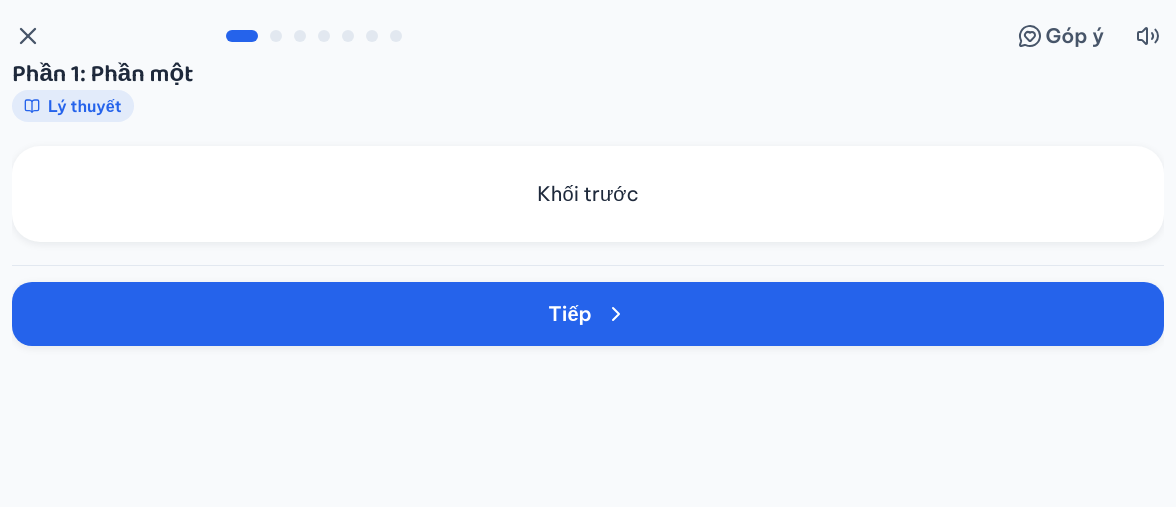
Test: a guided theory screen › keeps Tiếp off until the child picks right, with feedback on each pick
The image size is (1176, 507).
What coordinates should you click on to do the following:
click the button "Tiếp"
I would click on:
 (588, 314)
Its box is x1=12 y1=282 x2=1164 y2=346.
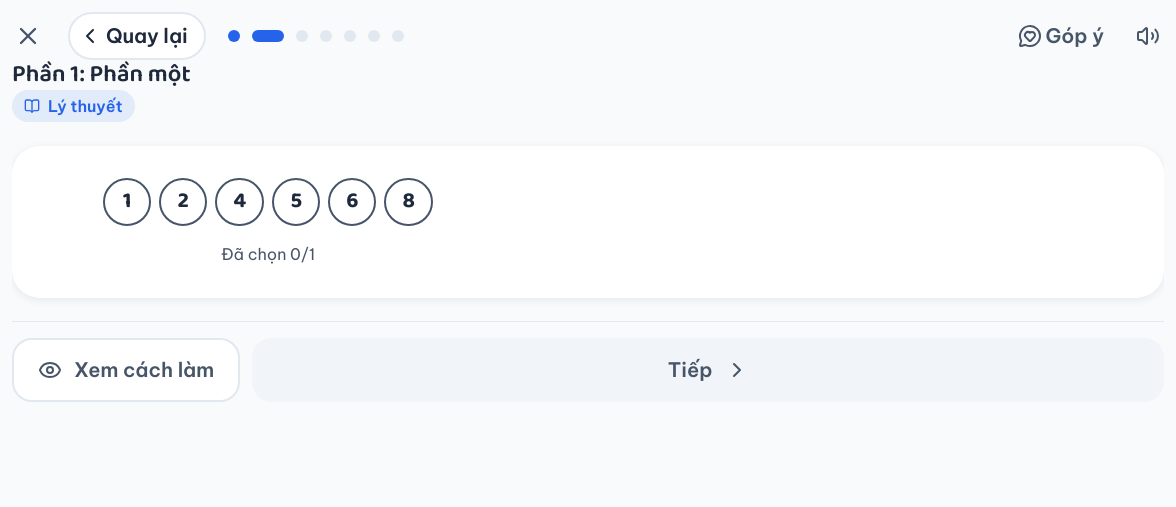
Expected: the button "Xem cách làm" is shown, x1=12 y1=338 x2=240 y2=402
Expected: the button "Tiếp" is disabled, x1=252 y1=338 x2=1164 y2=402
What coordinates should you click on to do the following:
click the button "1"
I would click on:
 (127, 202)
Its box is x1=103 y1=178 x2=151 y2=226.
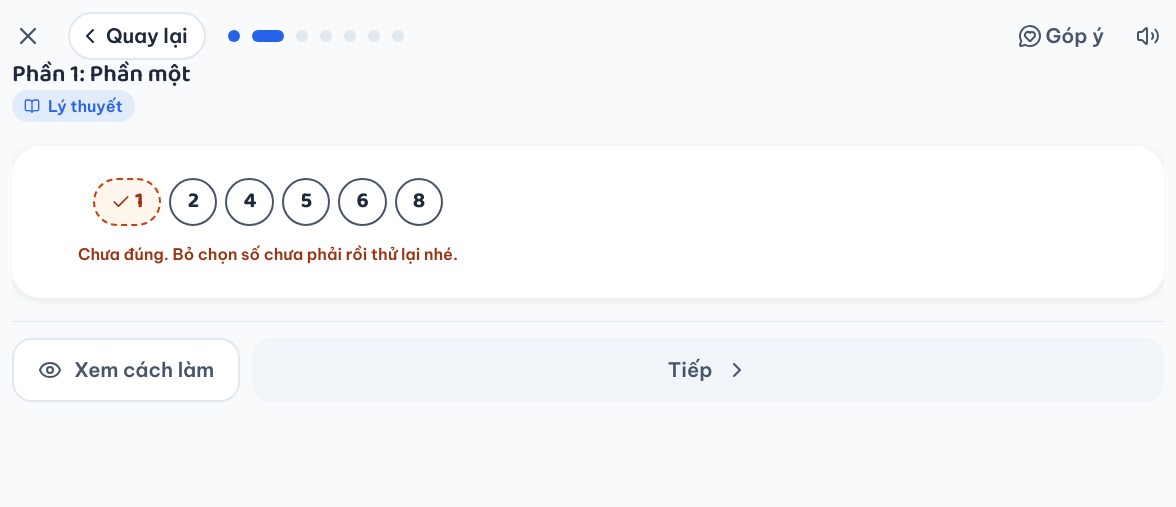
What coordinates should you click on to do the following:
click the button "2"
I would click on:
 (193, 202)
Its box is x1=169 y1=178 x2=217 y2=226.
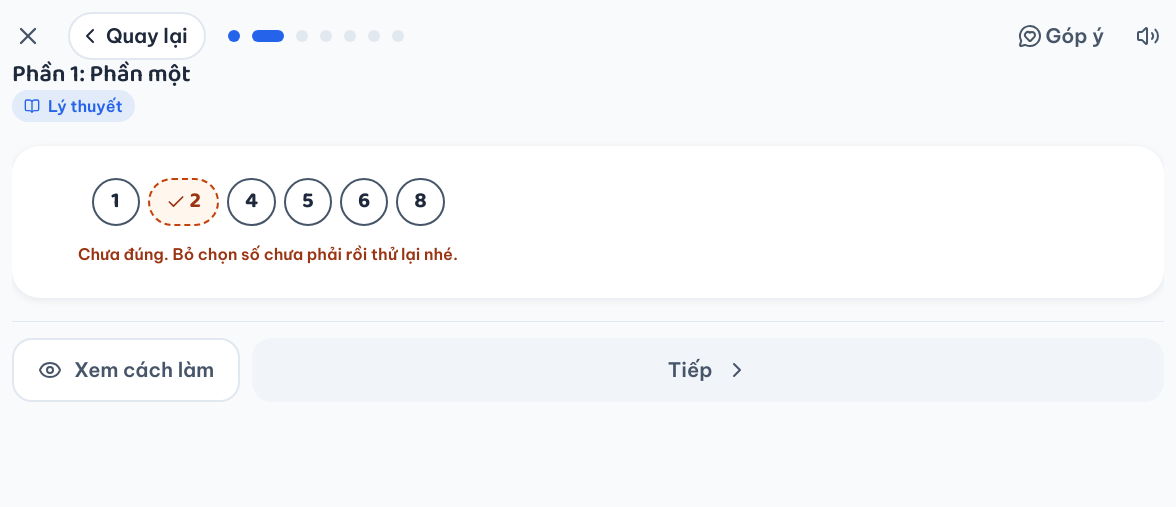
What coordinates should you click on to do the following:
click the button "5"
I would click on:
 (308, 202)
Its box is x1=284 y1=178 x2=332 y2=226.
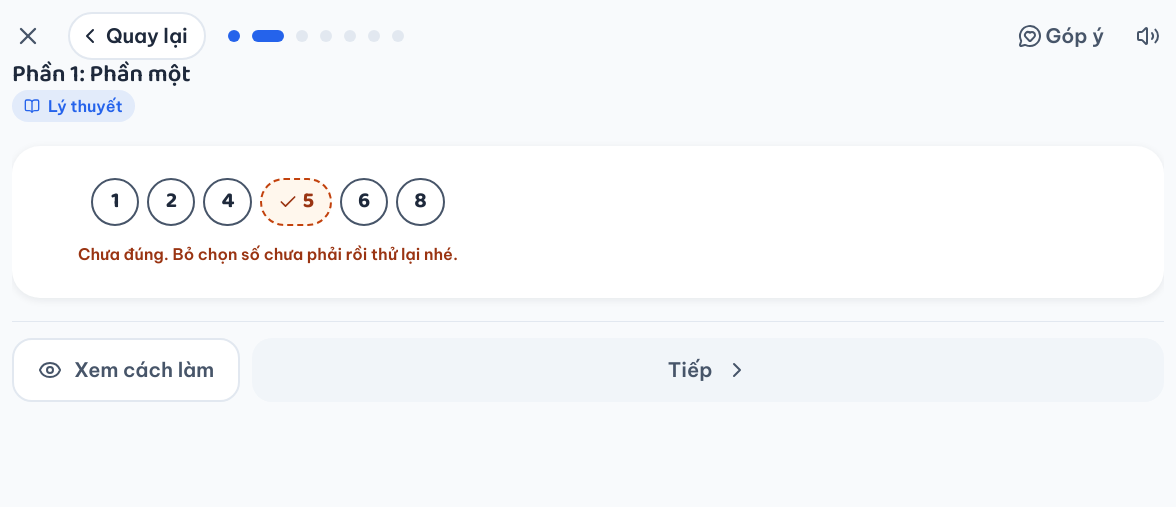
Expected: the button "Tiếp" is disabled, x1=252 y1=338 x2=1164 y2=402
Expected: the text "Chưa đúng. Bỏ chọn số chưa phải rồi thử lại nhé." is shown, x1=78 y1=242 x2=458 y2=266
What coordinates should you click on to do the following:
click the button "4"
I would click on:
 (228, 202)
Its box is x1=203 y1=178 x2=252 y2=226.
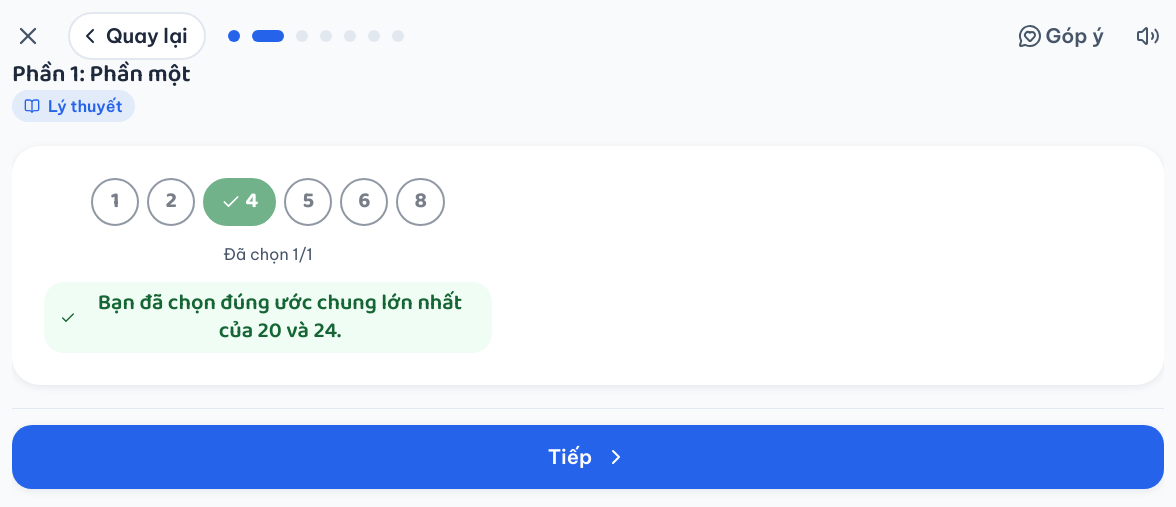
Expected: the text "Bạn đã chọn đúng ước chung lớn nhất của 20 và 24." is shown, x1=44 y1=282 x2=492 y2=353
Expected: the button "Tiếp" is enabled, x1=12 y1=425 x2=1164 y2=489
